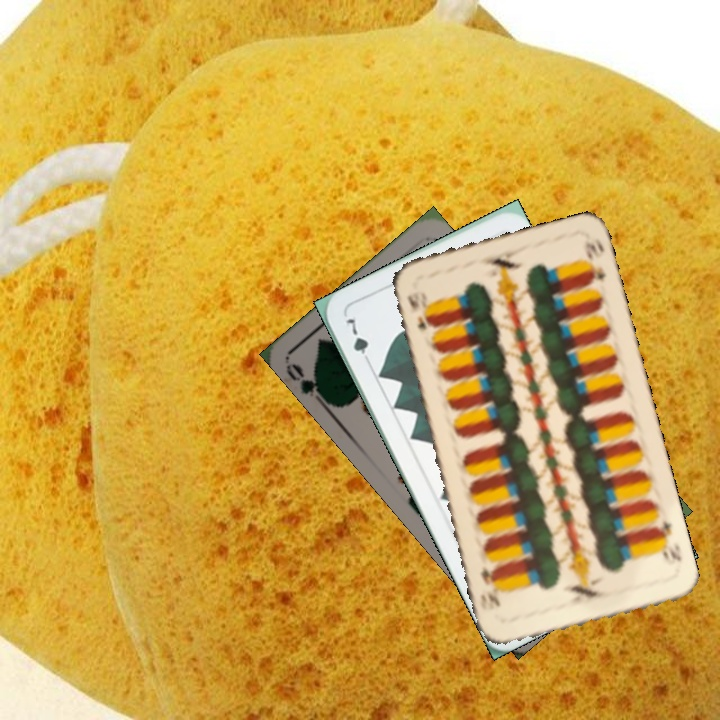E10: (650, 517, 684, 568), (403, 288, 433, 332)
G7: (341, 314, 374, 368)
GO: (282, 359, 331, 410)
